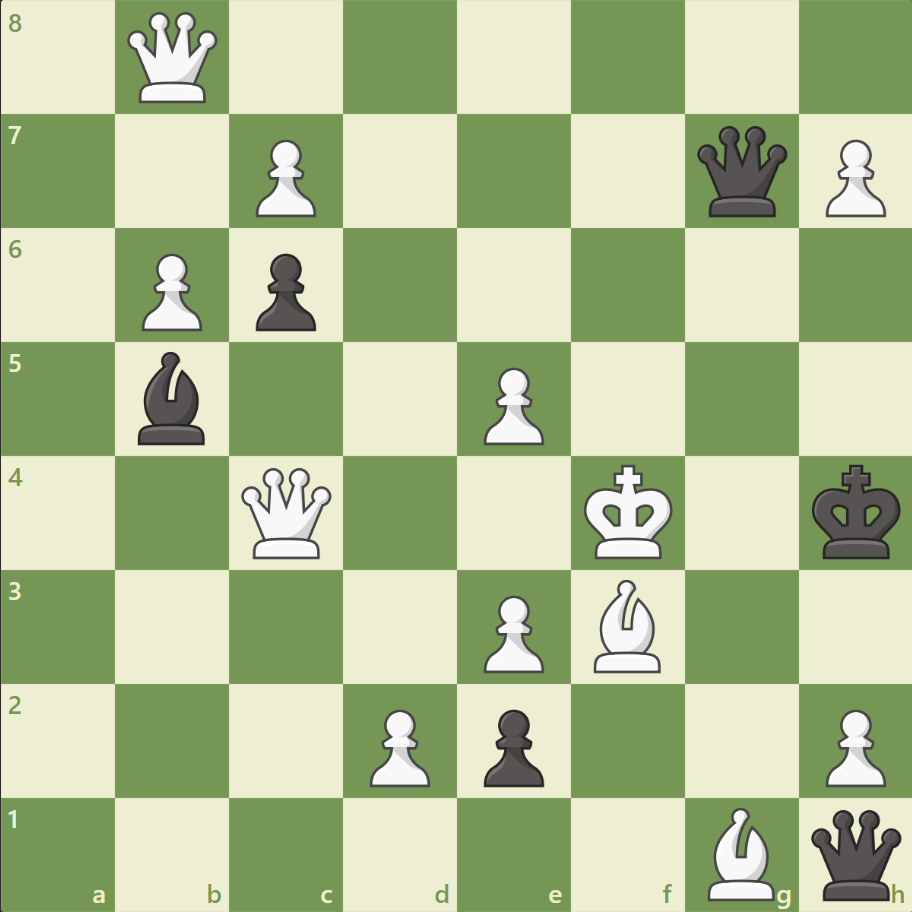B: (698, 801, 782, 904), (585, 574, 669, 676)
K: (579, 458, 679, 566)
P: (247, 132, 322, 223), (133, 246, 208, 337), (474, 359, 549, 450), (474, 586, 549, 677), (815, 132, 889, 223), (361, 700, 435, 791), (815, 700, 889, 791)
Q: (124, 9, 223, 108), (237, 463, 336, 562)
b: (131, 347, 215, 449)
k: (806, 458, 906, 566)
p: (247, 246, 322, 337), (474, 700, 549, 791)
q: (691, 122, 790, 222), (805, 804, 904, 903)
